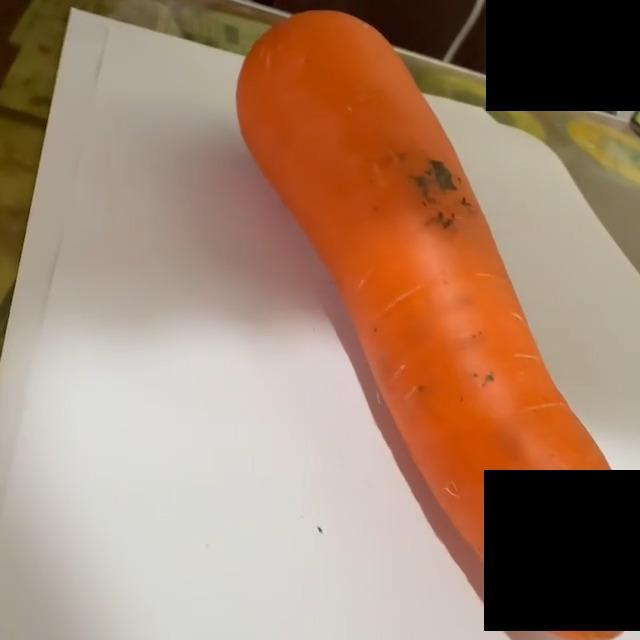carrot: (237, 8, 640, 640)
